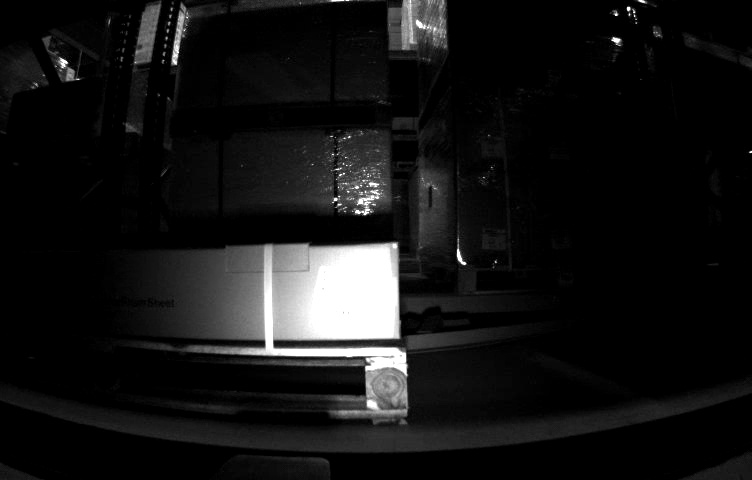True Barcode: (309, 265, 375, 320)
